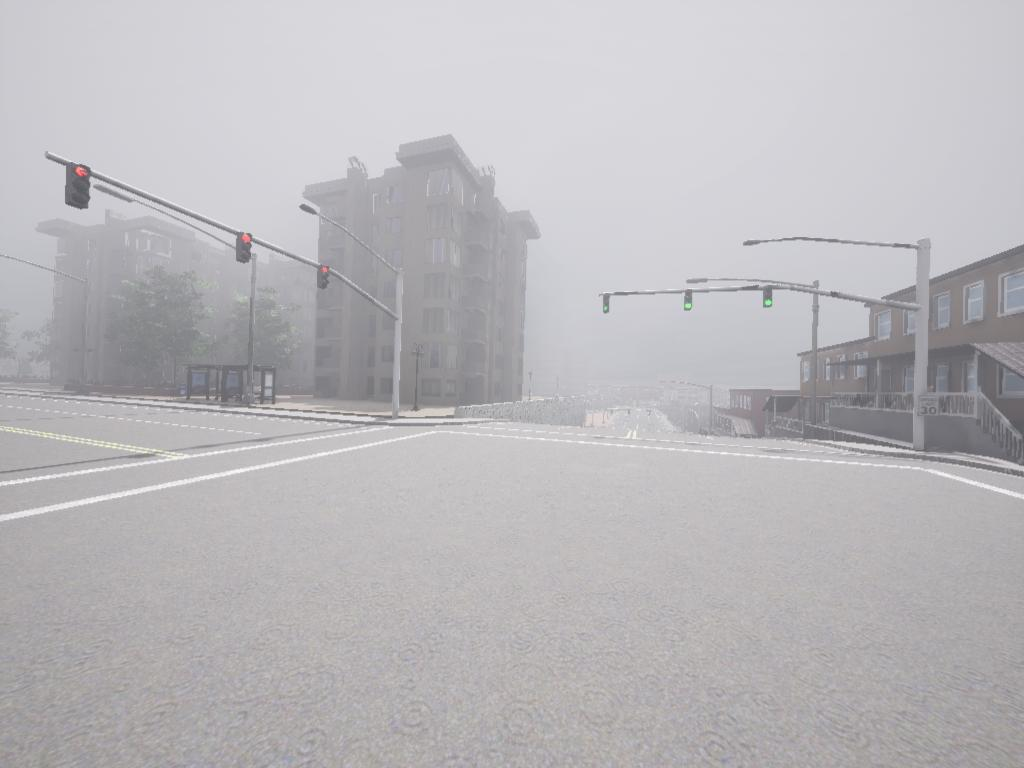traffic_light: (66, 164, 95, 212), (239, 233, 256, 263), (602, 293, 612, 315), (320, 268, 330, 289), (683, 291, 693, 311), (765, 294, 776, 308)
